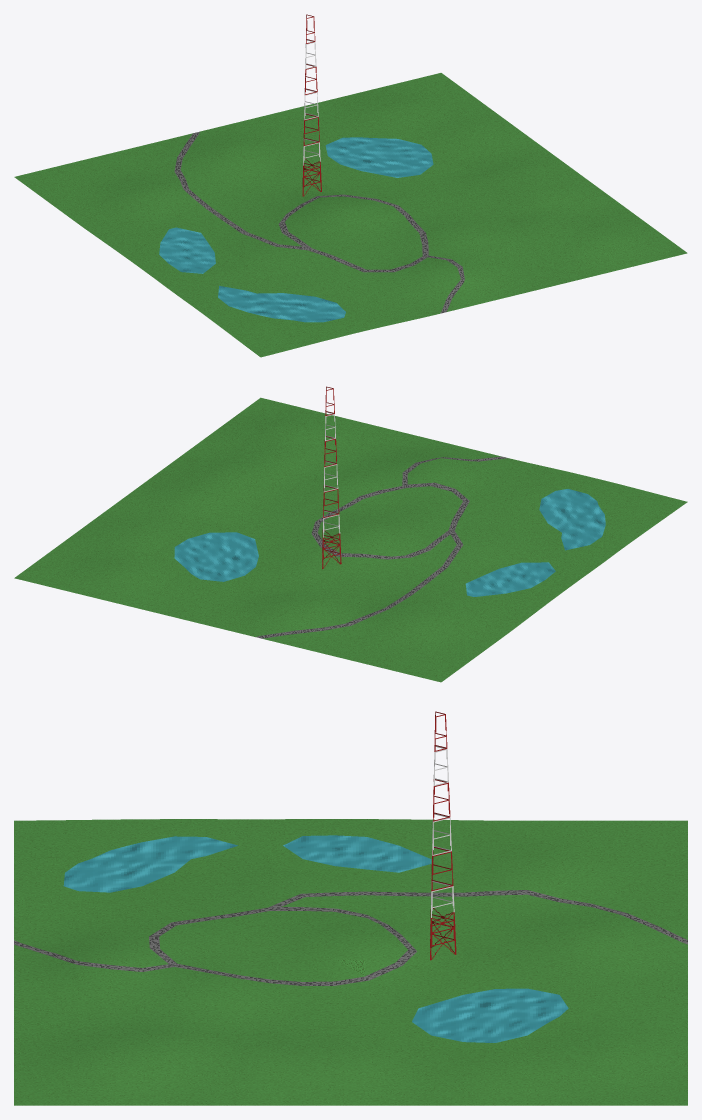
File: rock_kicking_park_ground_final_wip.glb
3 renders of one model, top to bottom at view 1: azimuth 30°, elevation 25°; view 2: azimuth 150°, elevation 25°; view 3: azimuth 270°, elevation 25°, orthographic. The views are drawn at different scales.
Parts seen in each view (by area): view 1: GroundIntactTrees, GroundIntactNoTrees, GroundLakes, GroundPath, Cell Tower; view 2: GroundIntactTrees, GroundIntactNoTrees, GroundLakes, GroundPath, Cell Tower; view 3: GroundIntactTrees, GroundIntactNoTrees, GroundLakes, GroundPath, Cell Tower.
Part boxes in pixels (<box>): GroundIntactTrees: <box>14,73,687,357</box>; GroundIntactNoTrees: <box>128,126,465,332</box>; GroundLakes: <box>159,137,433,322</box>; GroundPath: <box>174,131,464,313</box>; Cell Tower: <box>302,14,321,196</box>; GroundIntactTrees: <box>14,397,687,682</box>; GroundIntactNoTrees: <box>154,479,631,610</box>; GroundLakes: <box>174,489,605,596</box>; GroundPath: <box>255,456,508,638</box>; Cell Tower: <box>322,386,341,569</box>; GroundIntactTrees: <box>14,819,687,1105</box>; GroundIntactNoTrees: <box>46,832,591,1049</box>; GroundLakes: <box>63,835,568,1042</box>; GroundPath: <box>14,890,687,985</box>; Cell Tower: <box>430,711,456,960</box>.
Bounding box in the file's own units: 500 × 199 × 500.
Materials: 4 (4 with a texture image).
